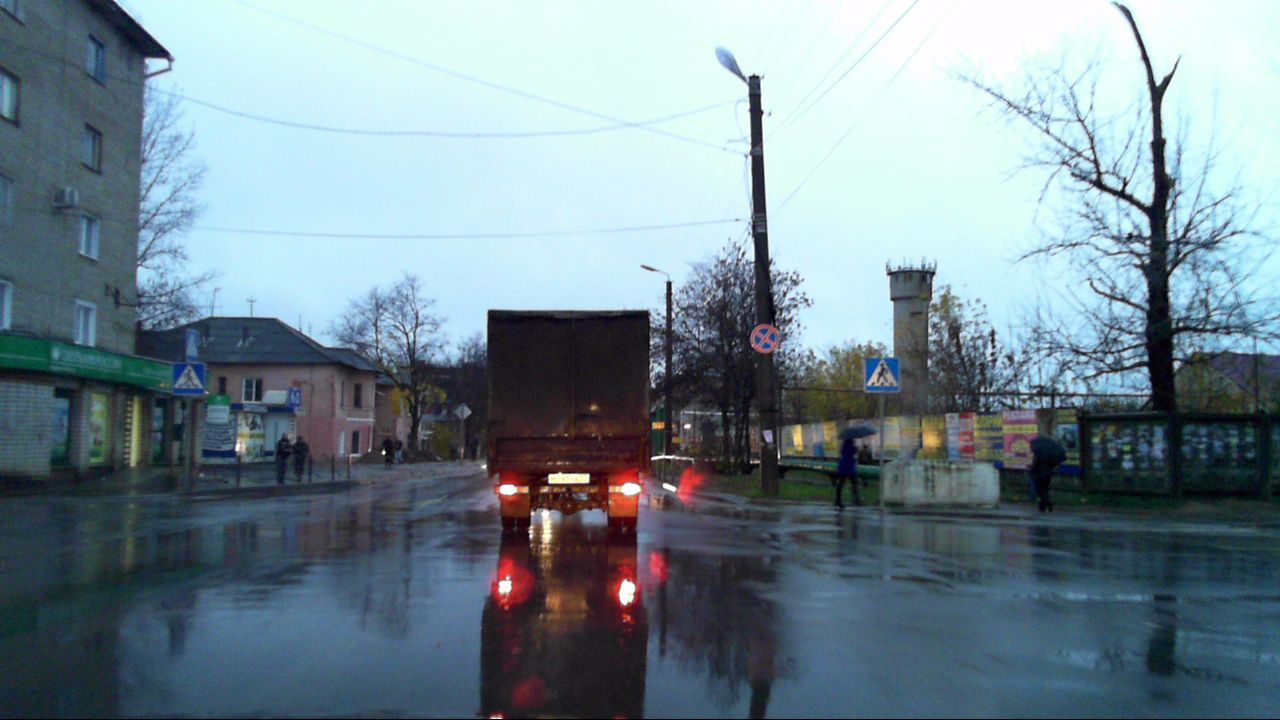No Parking: (750, 323, 780, 353)
